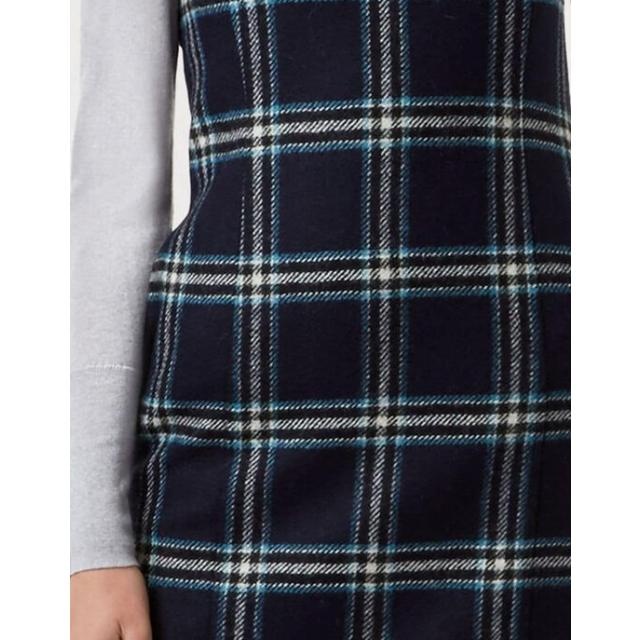wool: (78, 0, 570, 640)
